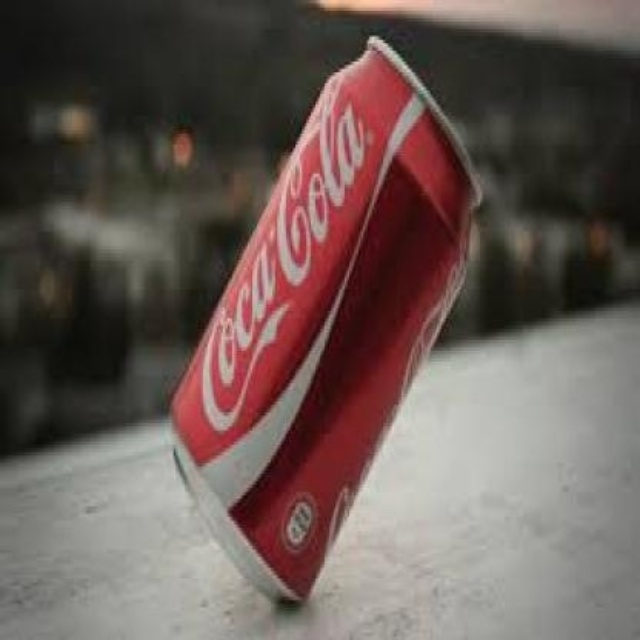trash: (172, 37, 478, 600)
